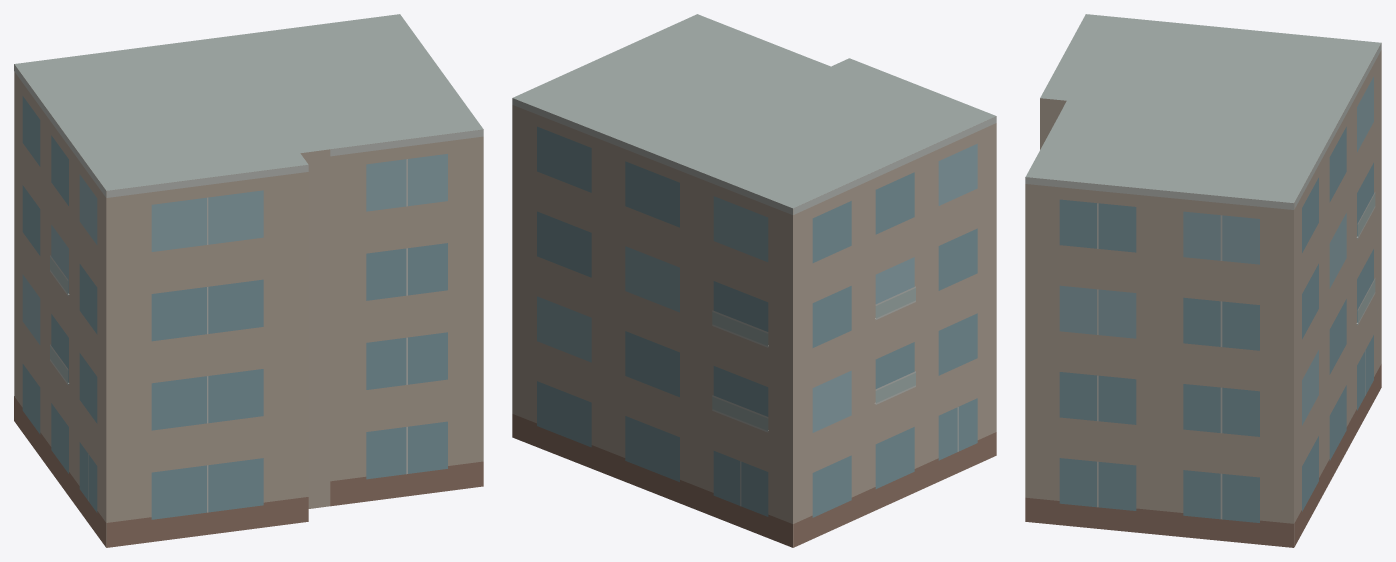
The model's file is residential-c924bcaf-821e-4c07-a544-cbb5817b3725.glb.
3 renders of one model, left to right at view 1: azimuth 30°, elevation 25°; view 2: azimuth 150°, elevation 25°; view 3: azimuth 270°, elevation 25°, orthographic. The views are drawn at different scales.
Visible parts, largest first — view 1: residential-c924bcaf-821e-4c07-a544-cbb5817b3725.tmp; view 2: residential-c924bcaf-821e-4c07-a544-cbb5817b3725.tmp; view 3: residential-c924bcaf-821e-4c07-a544-cbb5817b3725.tmp.
Part boxes in pixels (x1,y1,x2,y2): residential-c924bcaf-821e-4c07-a544-cbb5817b3725.tmp: (14,14,483,547); residential-c924bcaf-821e-4c07-a544-cbb5817b3725.tmp: (512,14,996,547); residential-c924bcaf-821e-4c07-a544-cbb5817b3725.tmp: (1025,14,1381,547).
Size of the model in its own units: 14.37 by 12.2 by 11.43.
